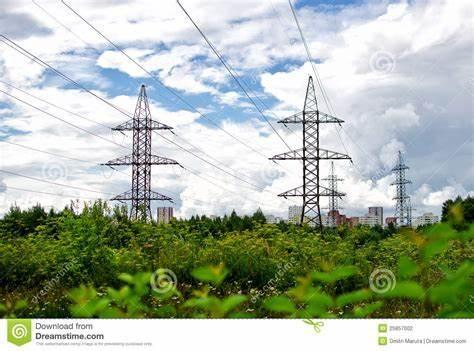power_tower: (267, 75, 354, 230), (107, 84, 177, 230), (381, 149, 414, 233)
